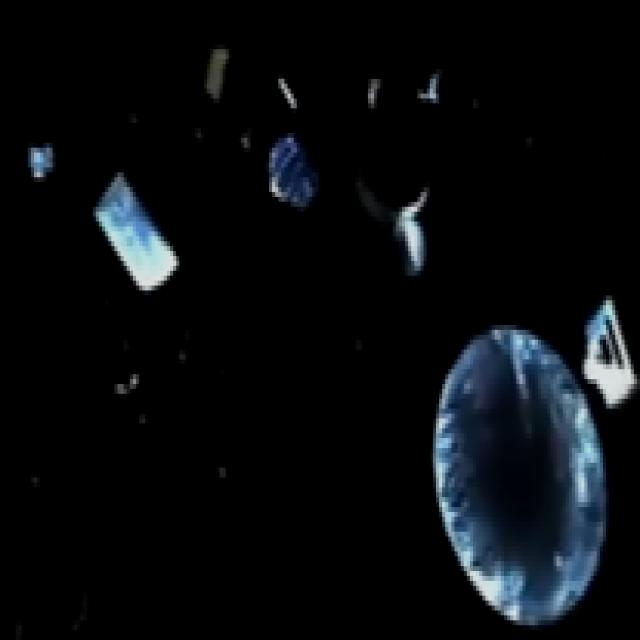large_debris: (418, 321, 611, 631)
medium_debris: (86, 164, 185, 292), (254, 127, 326, 214)
small_debris: (567, 288, 640, 412), (384, 177, 435, 277), (195, 40, 237, 100), (18, 140, 66, 191), (409, 56, 448, 116), (260, 69, 308, 114), (350, 66, 390, 113), (103, 361, 146, 403), (114, 99, 150, 138), (174, 114, 214, 146)
